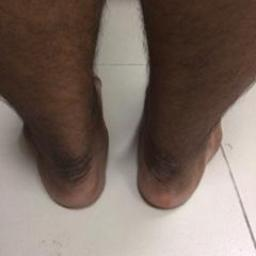Back View -Both Feet-: (8, 58, 243, 224)
